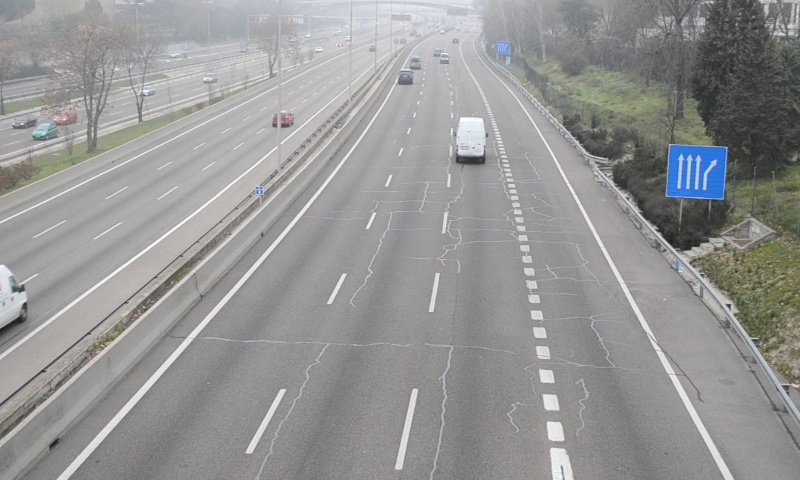car: (398, 68, 412, 84)
van: (454, 116, 487, 162)
